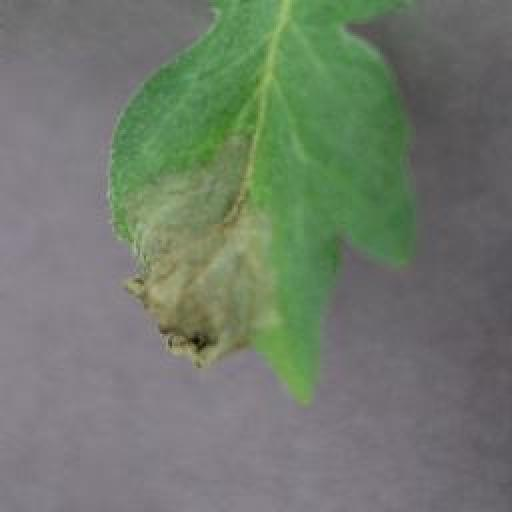Late Blight: (112, 0, 424, 407)
